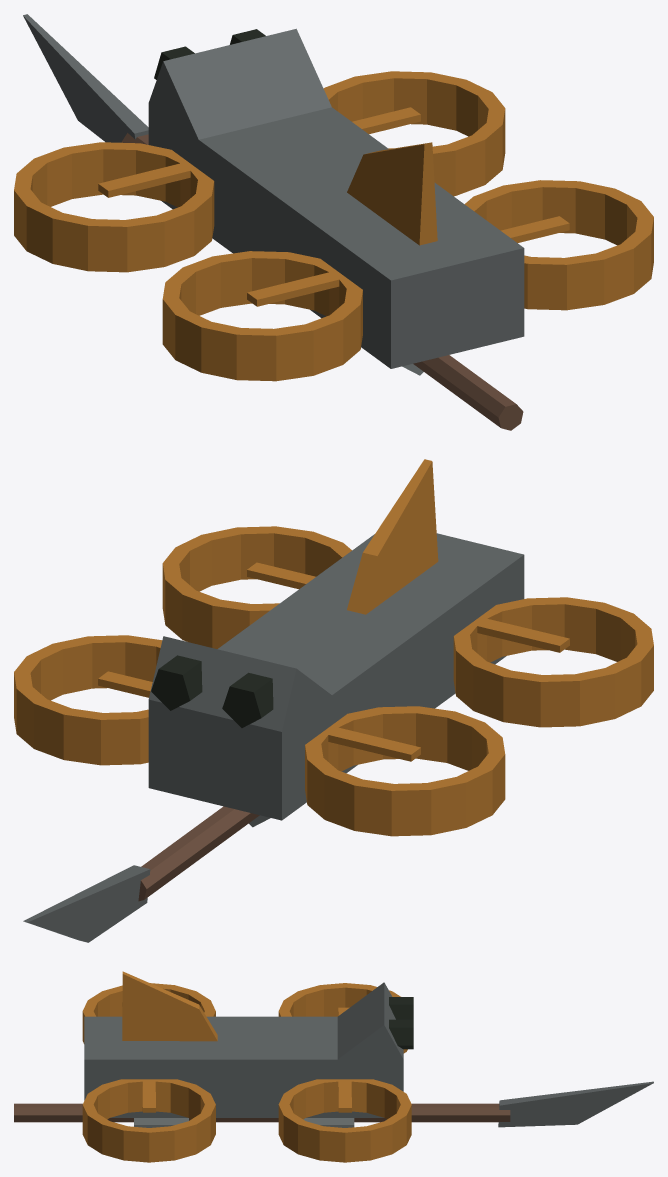
Rendered from quadcopter_drone.glb.
The picture shows the model from 3 angles, top to bottom: view 1: azimuth 30°, elevation 25°; view 2: azimuth 150°, elevation 25°; view 3: azimuth 270°, elevation 25°; orthographic projection. The views are drawn at different scales.
Parts seen in each view (by area): view 1: body, prop guard fl, prop guard bl, prop guard br, prop guard fr, tail fin, spear blade, spear shaft; view 2: body, prop guard fl, prop guard bl, prop guard fr, prop guard br, tail fin, spear blade, spear shaft, eye right, eye left; view 3: body, prop guard br, prop guard fr, tail fin, spear shaft, spear blade, prop guard fl, prop guard bl, eye right, eye left, spear holder back, spear holder front.
Part boxes in pixels (box(x1,y1,x2,y2)): body: box(148, 28, 524, 368); prop guard fl: box(14, 142, 214, 272); prop guard bl: box(162, 251, 362, 381); prop guard br: box(464, 180, 653, 310); prop guard fr: box(323, 71, 505, 196); tail fin: box(347, 142, 437, 245); spear blade: box(23, 14, 148, 142); spear shaft: box(122, 133, 523, 430); body: box(148, 533, 524, 820); prop guard fl: box(305, 706, 505, 836); prop guard bl: box(453, 597, 653, 727); prop guard fr: box(14, 635, 162, 765); prop guard br: box(162, 526, 351, 648); tail fin: box(347, 459, 438, 614); spear blade: box(23, 865, 150, 942); spear shaft: box(138, 806, 259, 901); eye right: box(151, 655, 202, 710); eye left: box(222, 672, 273, 727); body: box(84, 982, 403, 1117); prop guard br: box(82, 1079, 215, 1162); prop guard fr: box(278, 1079, 411, 1162); tail fin: box(122, 971, 217, 1041); spear shaft: box(14, 1103, 510, 1122); spear blade: box(498, 1081, 653, 1127); prop guard fl: box(278, 983, 407, 1053); prop guard bl: box(82, 983, 215, 1043); eye right: box(389, 1019, 413, 1049); eye left: box(389, 997, 413, 1019); spear holder back: box(134, 1118, 188, 1127); spear holder front: box(303, 1118, 354, 1127).
Size of the model in its own units: 6.99 by 3.42 by 12.63.
